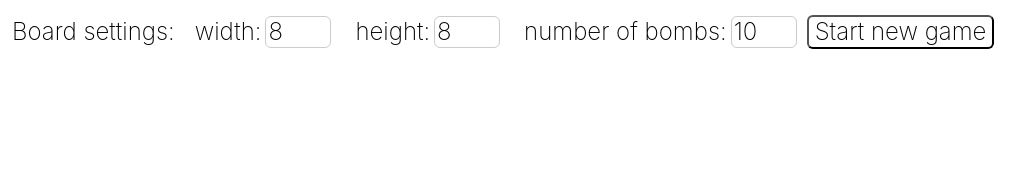
it: when given width: -1, height: 50, and number of bombs -18 it pins the setting inputs to a valid range: 1, 20, 0
This screenshot has width=1011, height=172.
Replace the text in the number field labelled "width:" with "-1" at (298, 32), box [266,16,332,48]
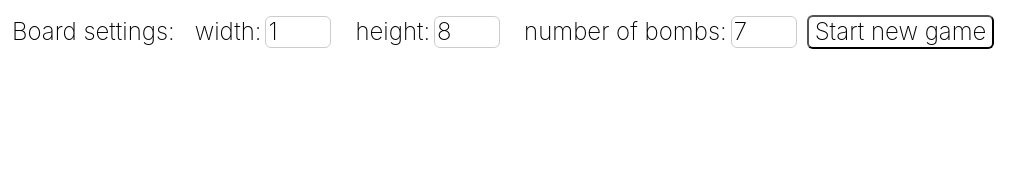
Replace the text in the number field labelled "height:" with "50" at (467, 32), box [434,16,500,48]
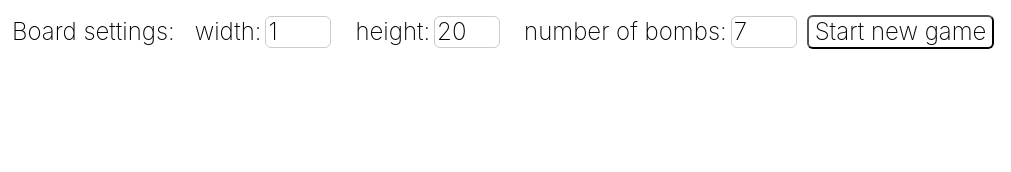
Replace the text in the number field labelled "number of bombs:" with "-18" at (764, 32), box [731,16,797,48]
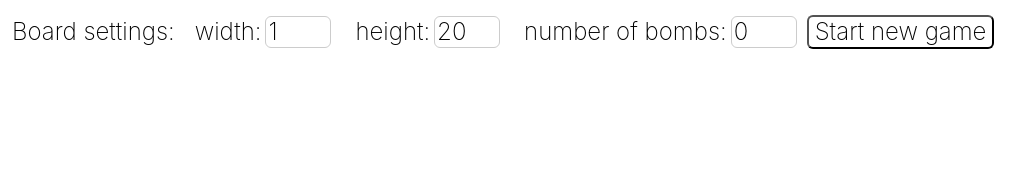
Expected: the number field labelled "width:" holds "1", [266,16,332,48]
Expected: the number field labelled "height:" holds "20", [434,16,500,48]
Expected: the number field labelled "number of bombs:" holds "0", [731,16,797,48]
